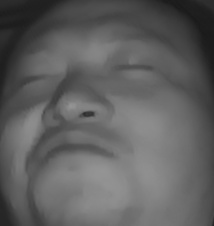blink: (114, 55, 157, 80), (15, 67, 54, 91)
mouth: (27, 128, 116, 169)
